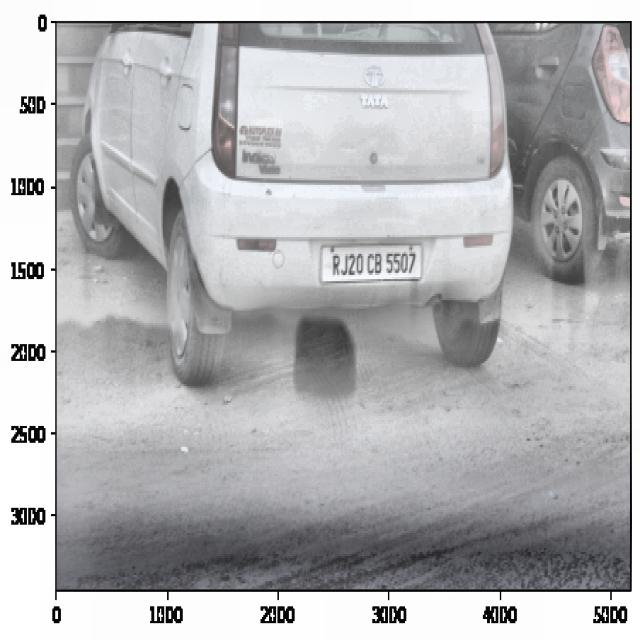license_plate: (328, 242, 420, 281)
